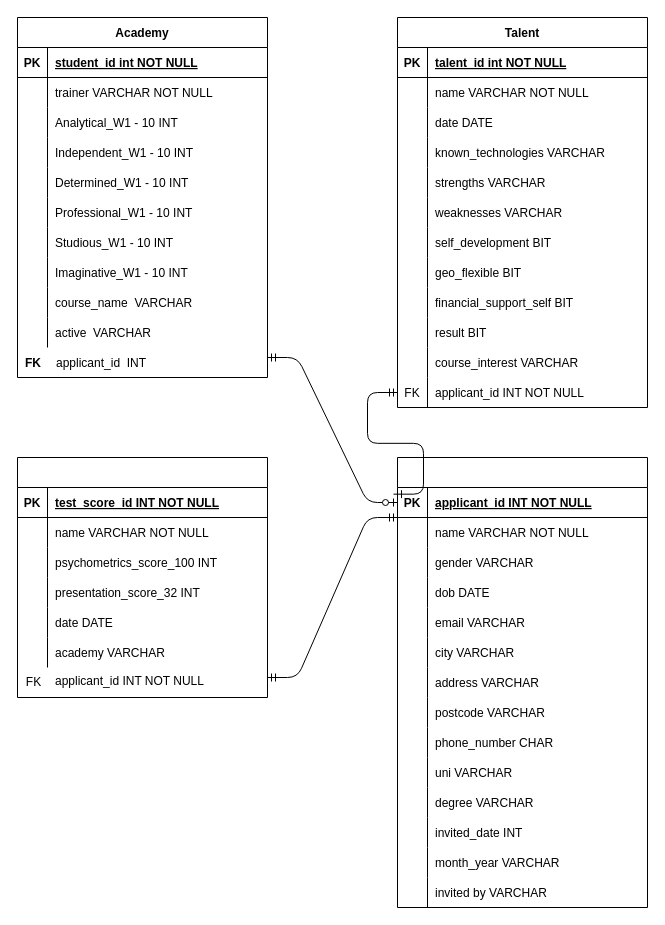
This 665x925 diagram has some shape labels left out. The box of each missing label's shape, as (x1, y1, x2, y2) in pixels:
Applicants: (396, 456, 648, 908)
Test_Scores: (16, 456, 268, 698)
